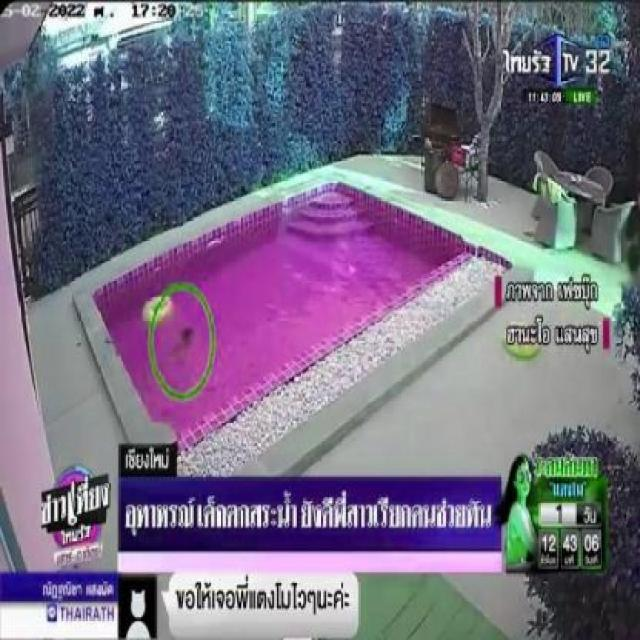drowning: (161, 316, 202, 369)
